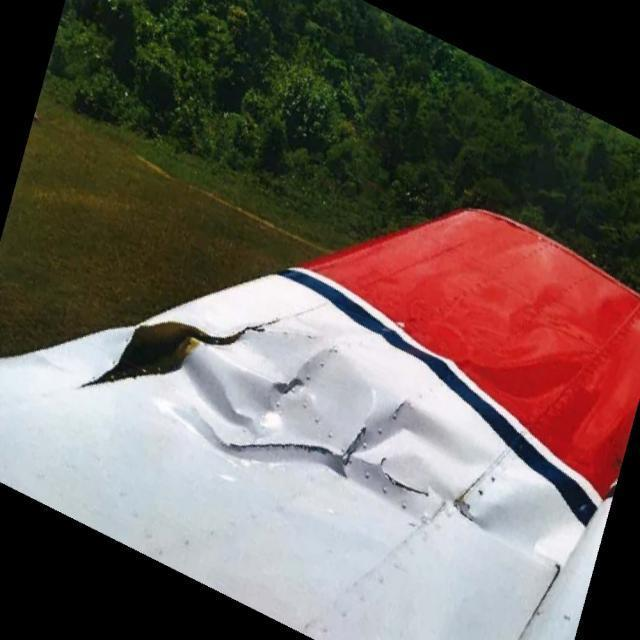crack: (232, 420, 367, 483), (367, 455, 424, 504), (389, 398, 403, 412)
